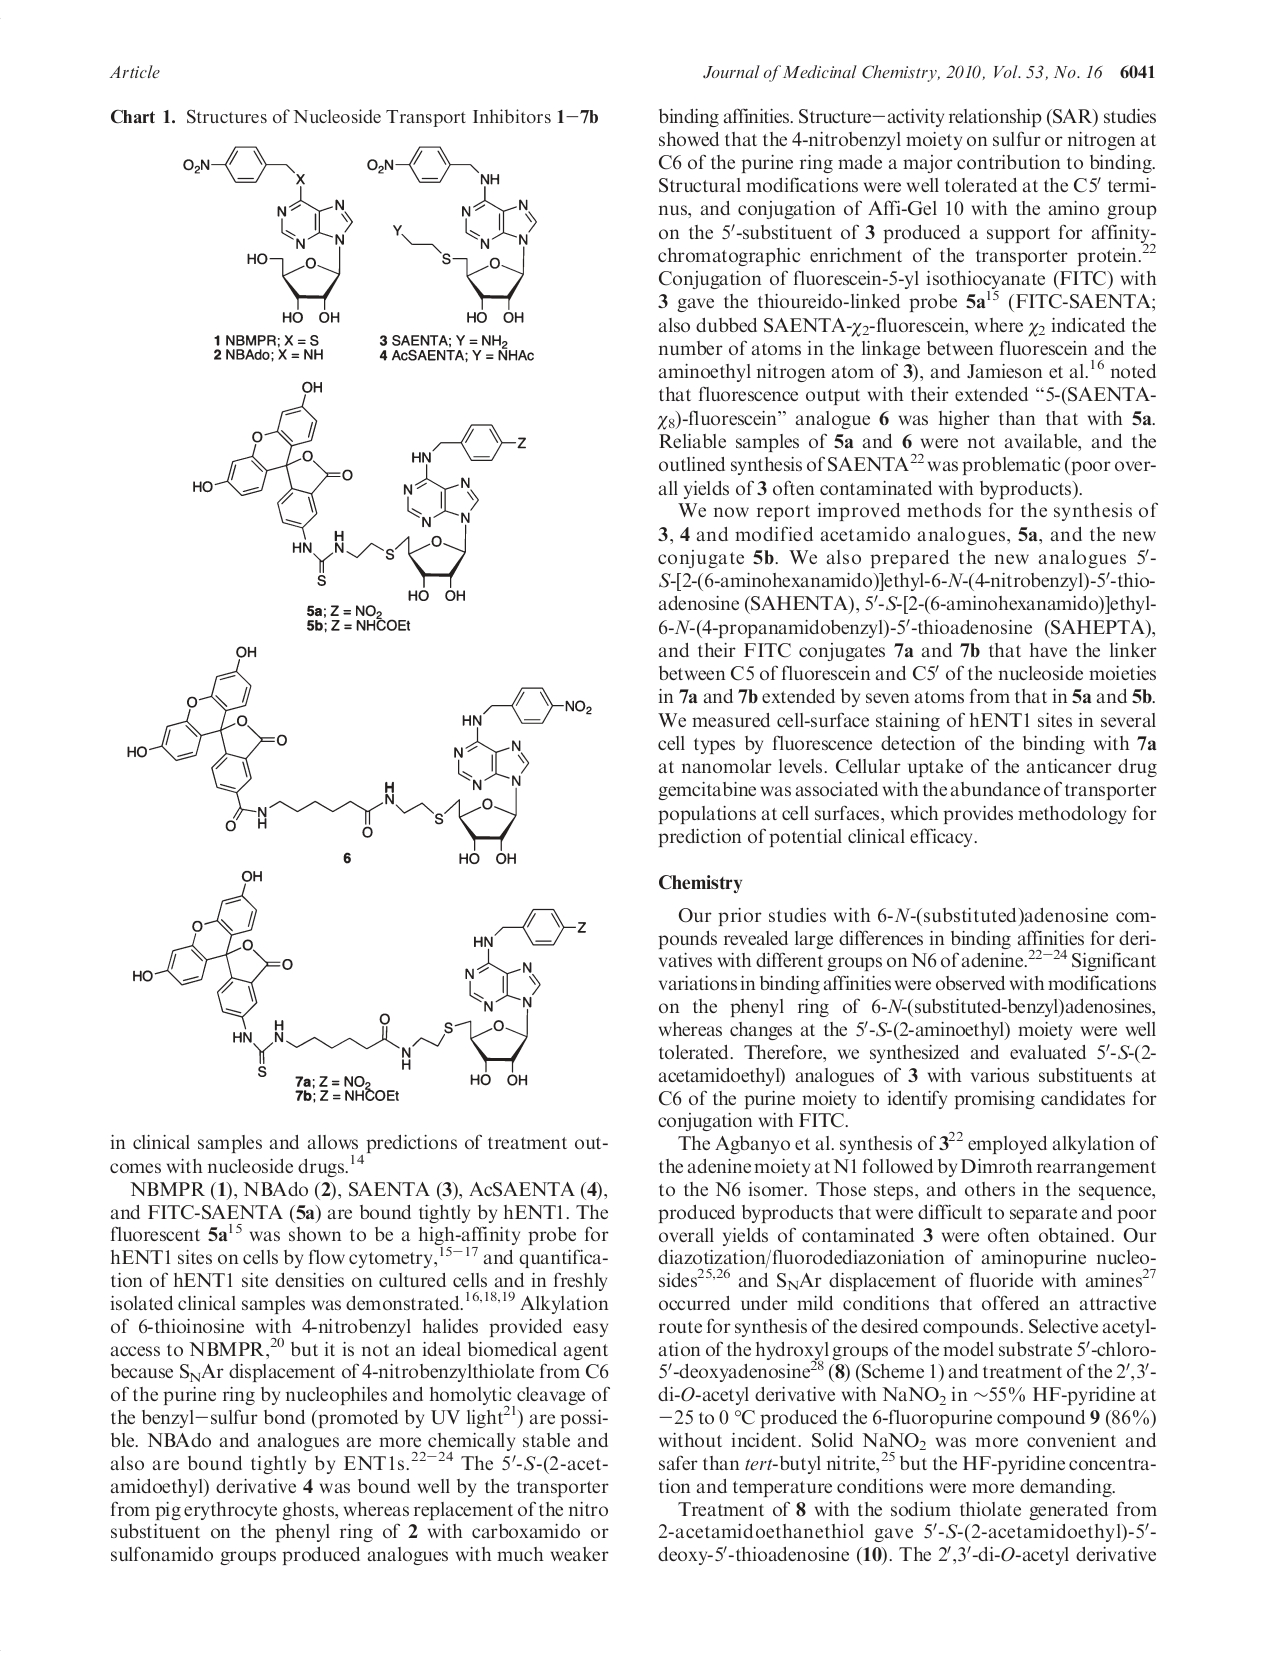exist_molecular: (122, 644, 590, 867), (132, 870, 588, 1088), (193, 380, 528, 602), (181, 145, 356, 324), (364, 145, 539, 324)
